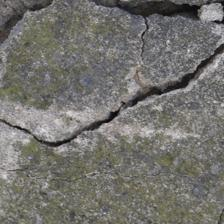Crack: (4, 48, 222, 149), (136, 16, 159, 66)
